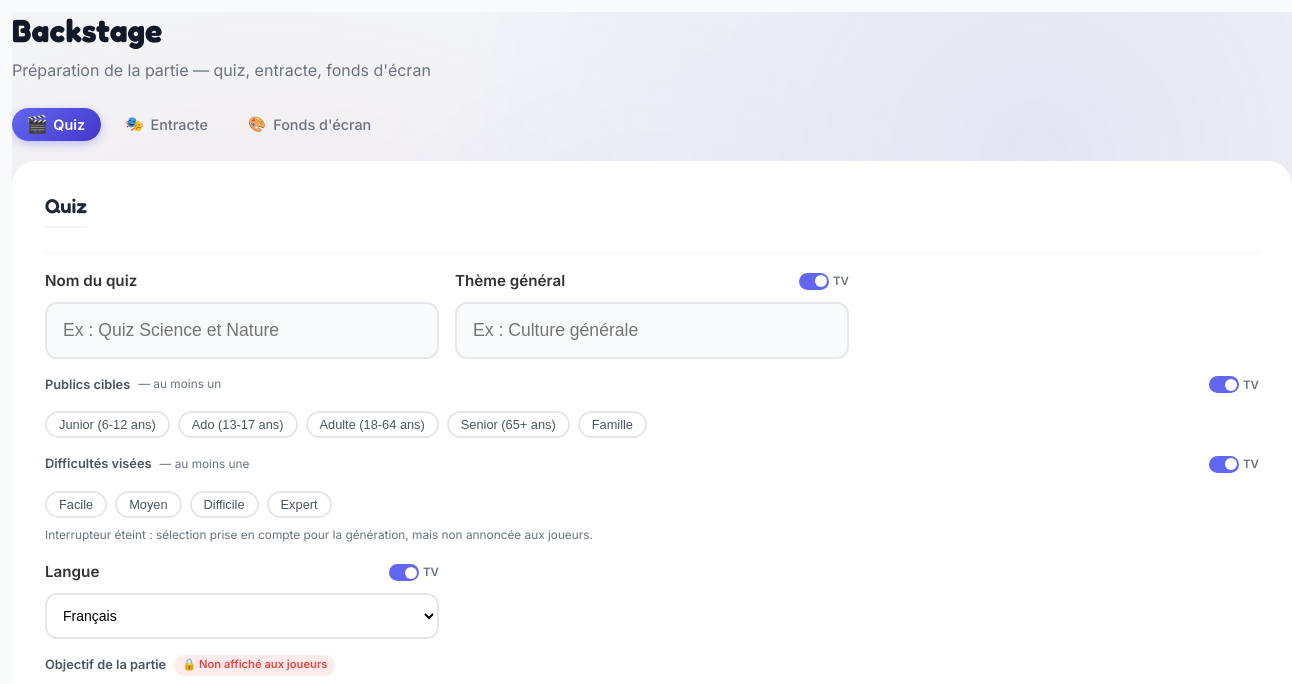
Scenario: BackstagePage — onglet Entracte : alimentation depuis ENTRACTE_CONFIG_SAVED (C4) › le formulaire lit gameState.entracteConfigSaved, JAMAIS gameState.entracteConfig (le diffusé)
Click the tab "🎭 Entracte" at (167, 125), box x1=109 y1=108 x2=224 y2=141
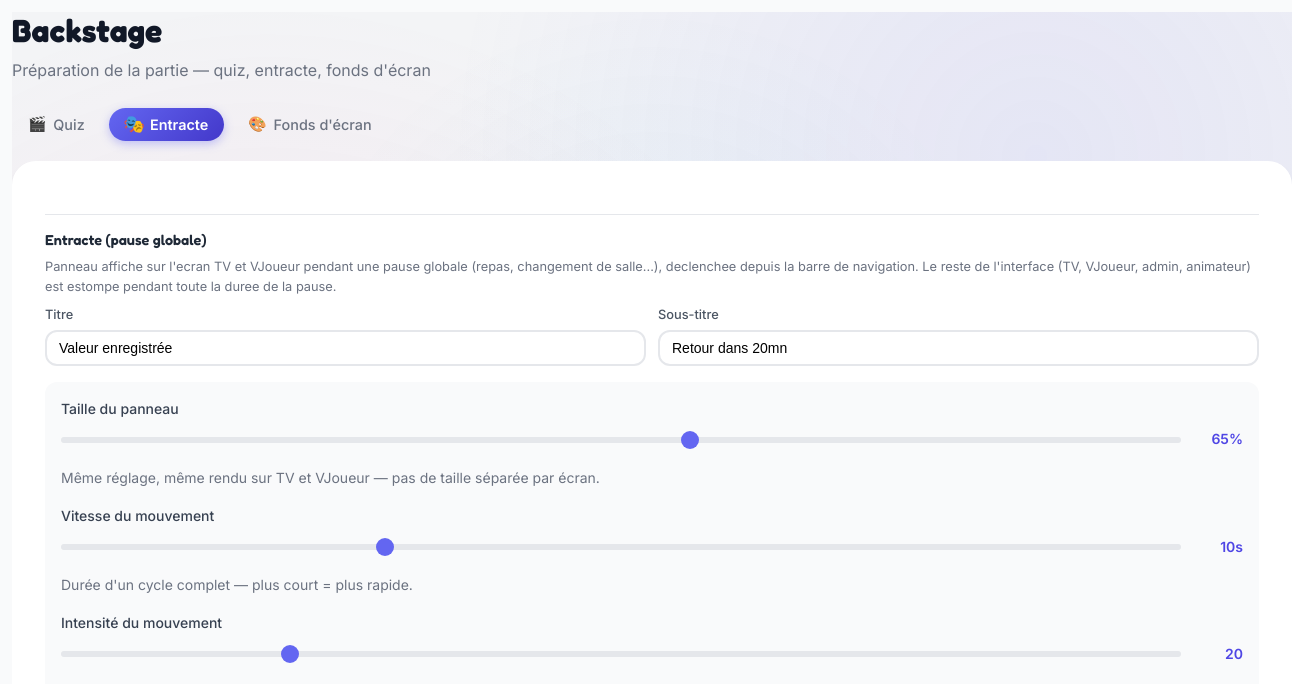
Expected: the field showing "Valeur enregistrée" is shown, x1=45 y1=330 x2=646 y2=366
